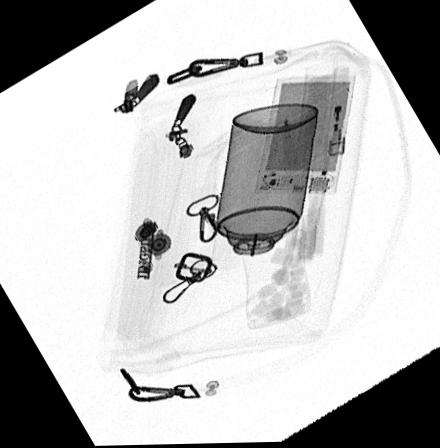Lighter: (325, 65, 351, 158)
Powerbank: (254, 74, 355, 194)
Sprayer: (212, 104, 319, 286)
